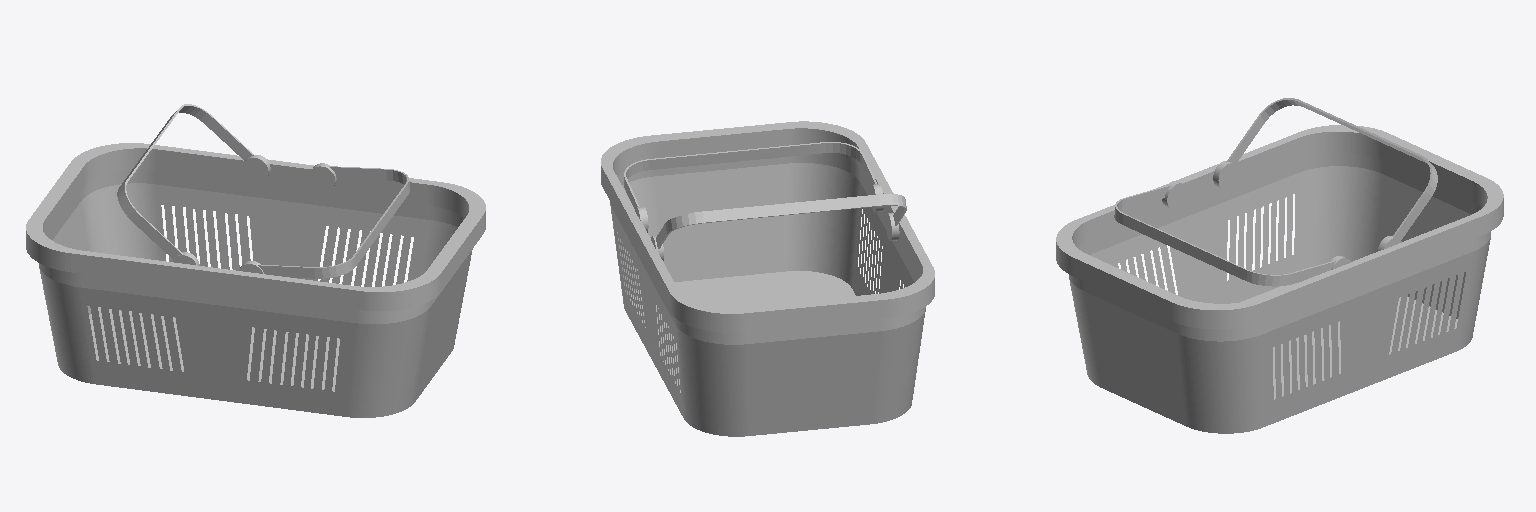
File: basket.obj
3 renders of one model, left to right at view 1: azimuth 30°, elevation 25°; view 2: azimuth 150°, elevation 25°; view 3: azimuth 270°, elevation 25°, orthographic.
Visible parts, largest first — view 1: Rectangle0, Circle052; view 2: Rectangle0, Circle052; view 3: Rectangle0, Circle052.
Part boxes in pixels (bbox=[...]): Rectangle0: bbox=[26, 143, 485, 417]; Circle052: bbox=[117, 104, 409, 278]; Rectangle0: bbox=[601, 121, 934, 436]; Circle052: bbox=[624, 142, 906, 260]; Rectangle0: bbox=[1056, 125, 1503, 433]; Circle052: bbox=[1114, 98, 1437, 286].
Bounding box in the file's own units: 39.49 × 19.41 × 40.24.